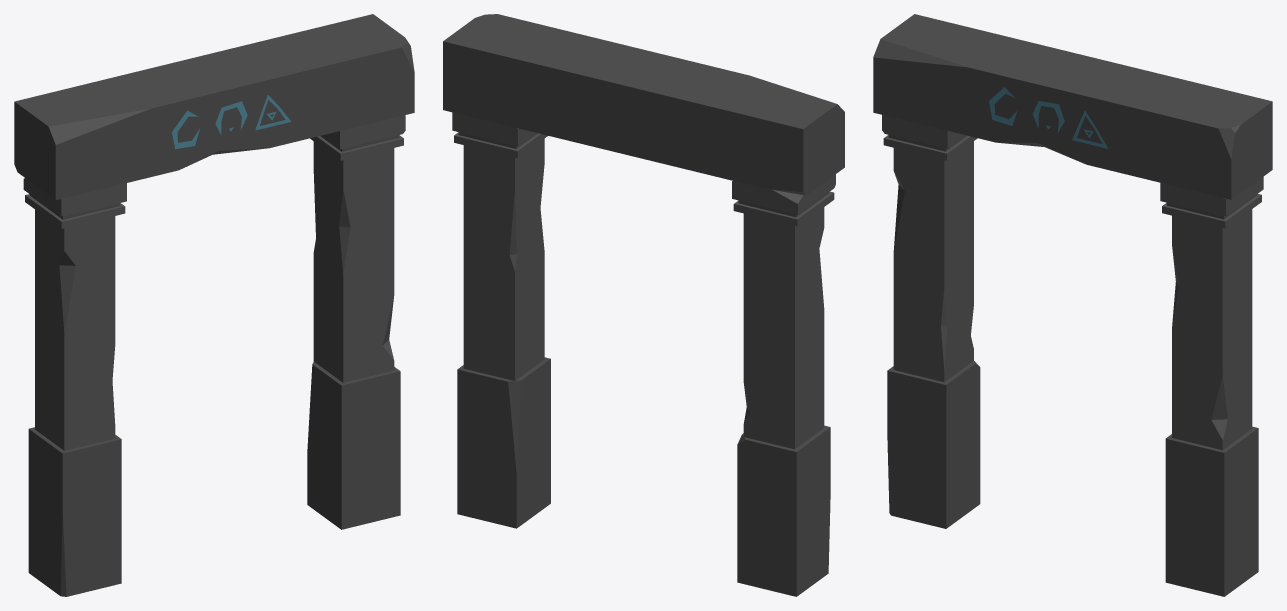
File: Portal_01.fbx
The picture shows the model from 3 angles, left to right: view 1: azimuth 30°, elevation 25°; view 2: azimuth 150°, elevation 25°; view 3: azimuth 330°, elevation 25°; orthographic projection.
Parts seen in each view (by area): view 1: Portal_01_LOD0; view 2: Portal_01_LOD0; view 3: Portal_01_LOD0.
Part boxes in pixels (box(x1,y1,x2,y2)): Portal_01_LOD0: box(14, 14, 414, 596); Portal_01_LOD0: box(443, 14, 844, 596); Portal_01_LOD0: box(873, 14, 1272, 596).
Size of what is drawn, in the model's own units: 639 by 802 by 128.
